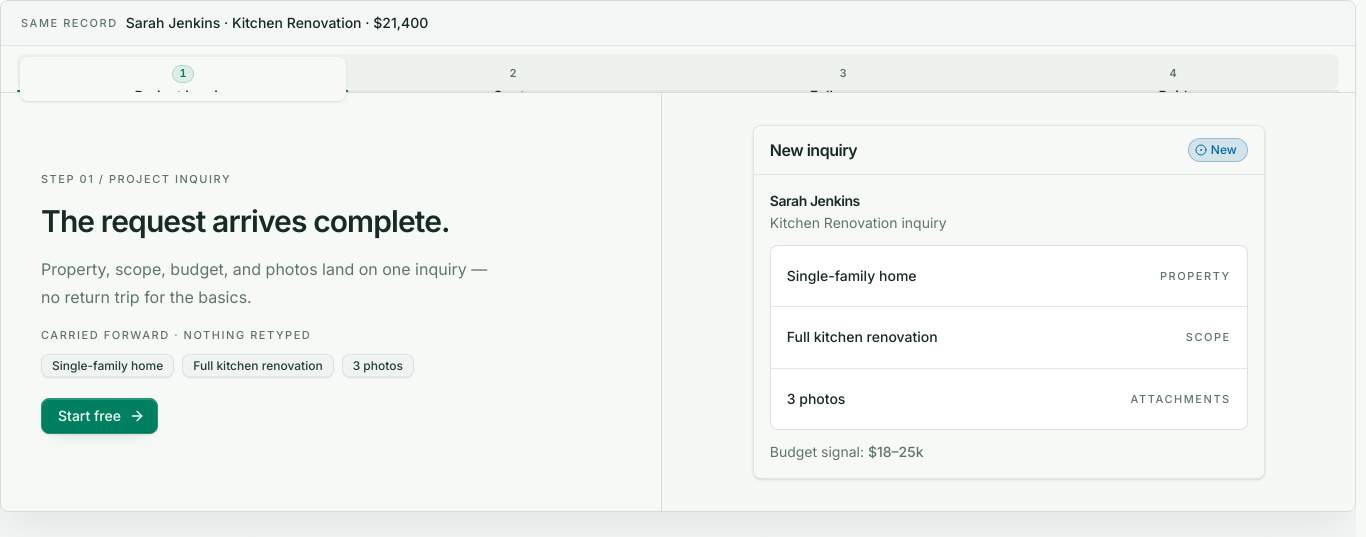
Test: SolutionDemo journey › switching tabs updates the narrative and mock while the identity persists
Step 1. Click the tab "4 Paid" → (1173, 79), box [1010,57,1336,101]
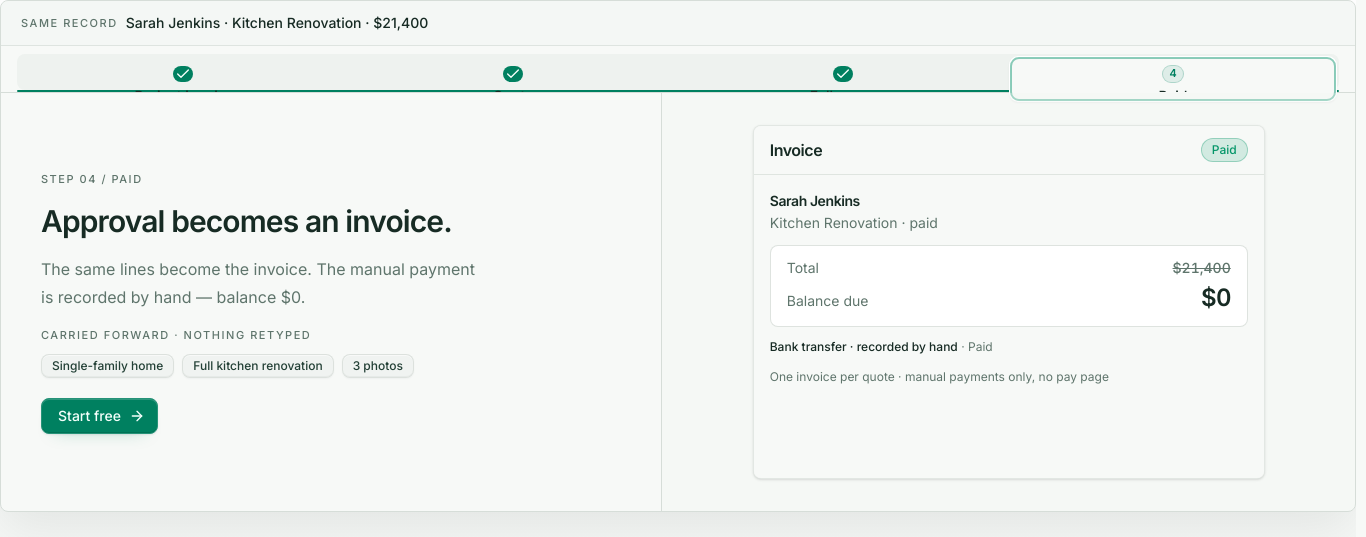
Now the heading "Approval becomes an invoice." is shown, box [41,203,452,239]
Now the panel shows "Balance due", box [787,292,868,309]
Now the panel shows "$0", box [1201,283,1231,312]
